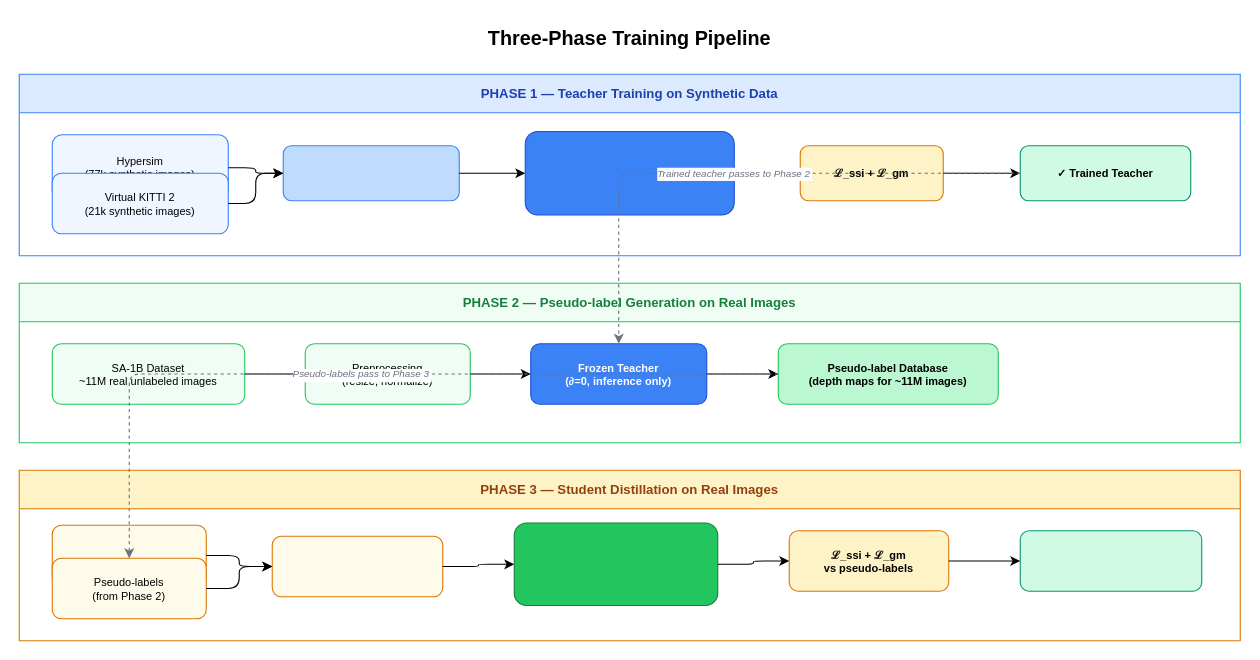
This 1260x660 diagram has some shape labels left out. Here are the shapes that lost their labels. From the top down, the centre of each, then its label:
the point at 370,173: Dense GT Depth Labels
the point at 629,172: Teacher Model DINOv2-Giant + DPT Decoder (only decoder trained)
the point at 128,555: Real Images (from SA-1B)
the point at 357,566: Augmentation (flip, crop, colour jitter)
the point at 615,564: Student Model ViT-Small + DPT Decoder (fully trainable)
the point at 1110,560: ✓ Trained Student (Deployed on HF Spaces)
